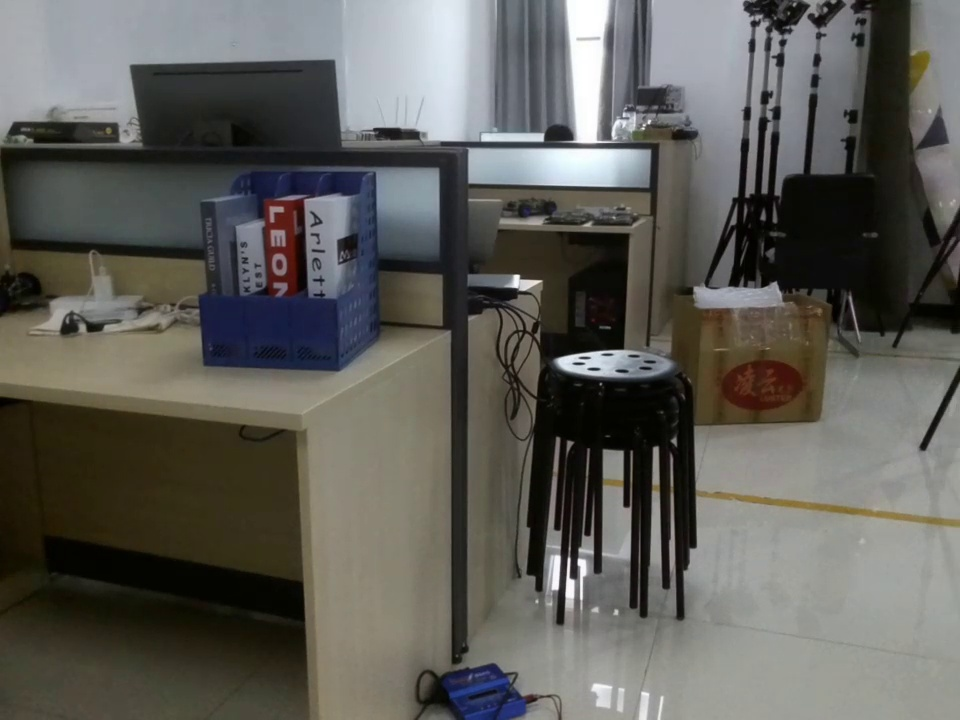files: (189, 166, 397, 375)
